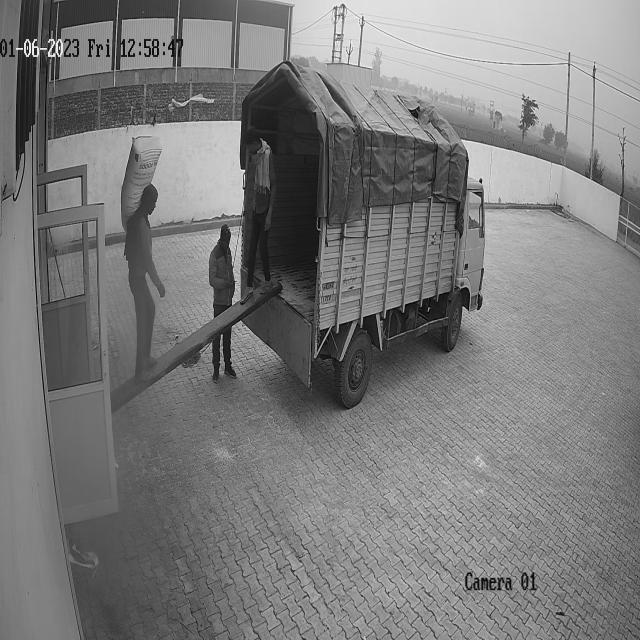sack: (122, 134, 162, 231)
